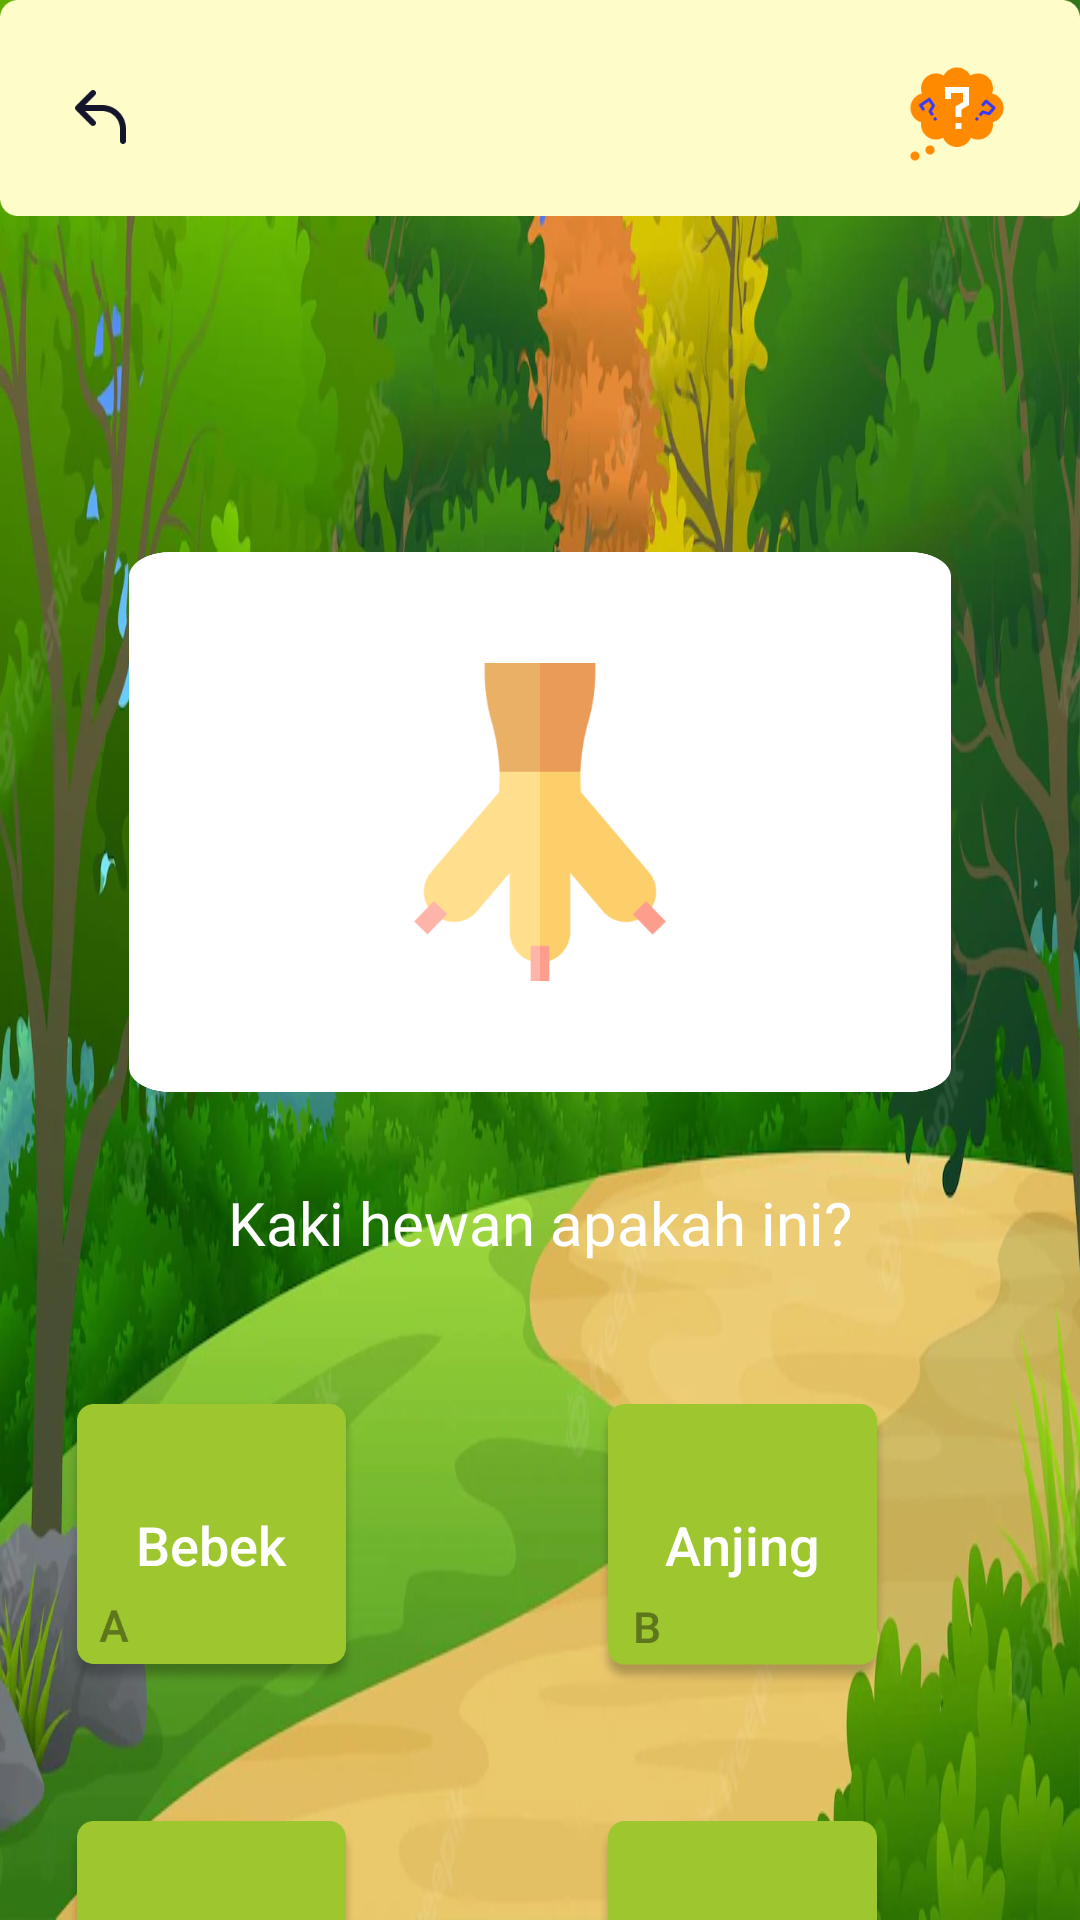

Where icons sit on this 1080×1920 app screen, as (x1, y1, x2, y2):
back: (75, 90, 126, 144)
chicken: (414, 663, 666, 981)
help: (910, 67, 1004, 161)
